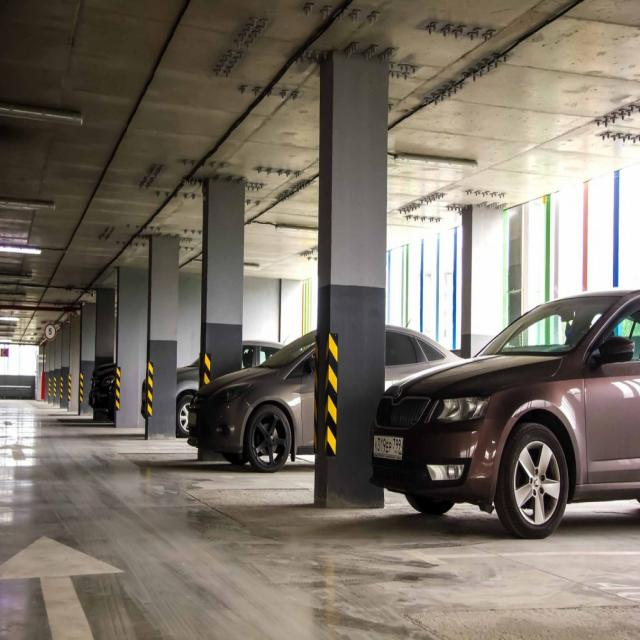libre: (34, 338, 84, 409)
ocupado: (137, 287, 640, 549), (81, 354, 142, 430)
